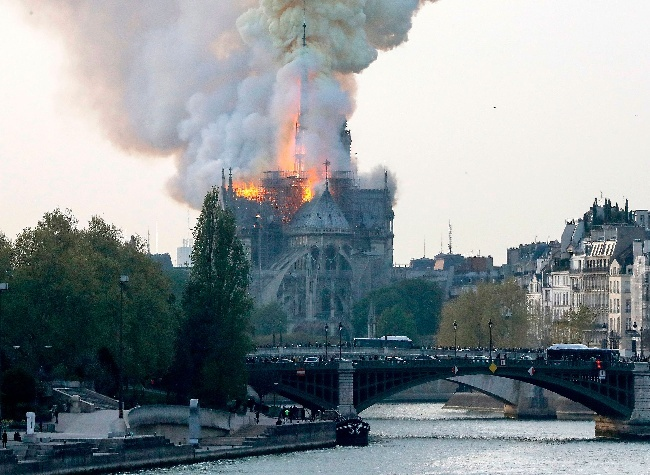Fire: (233, 185, 270, 199)
Smoke: (260, 1, 419, 72), (185, 79, 278, 179), (306, 78, 355, 165)
